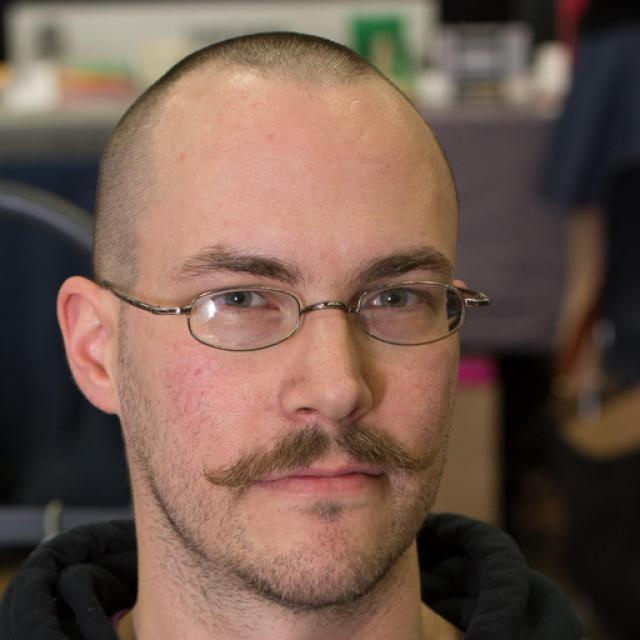content: (121, 92, 459, 602)
